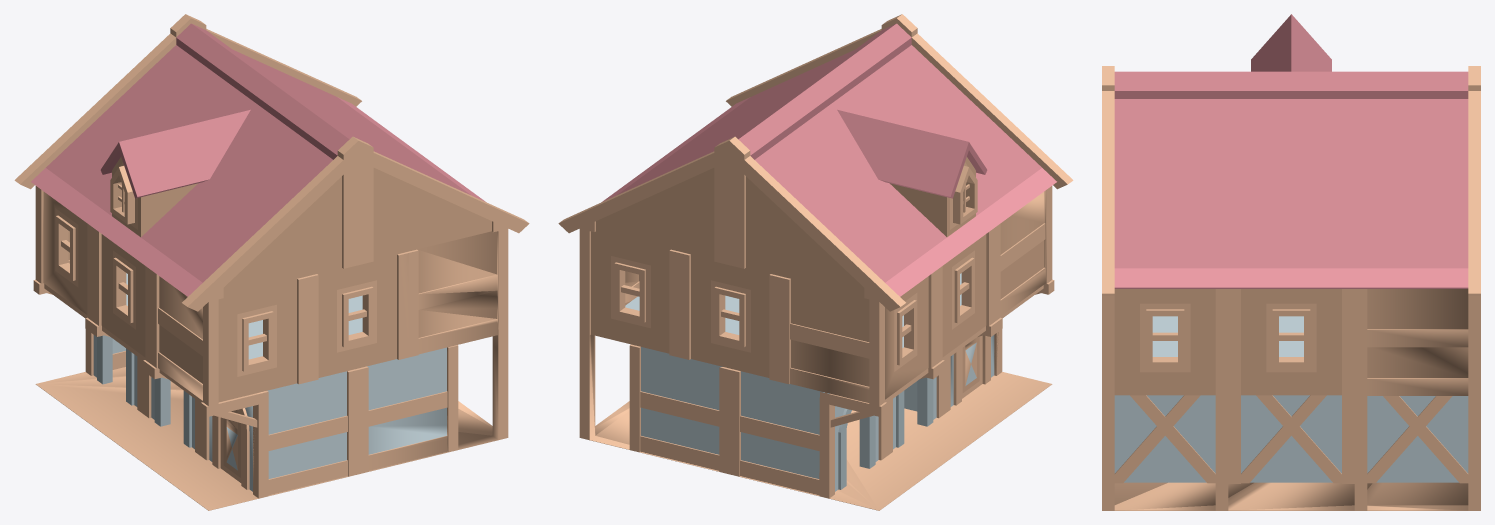
File: BasicHouse3.fbx
The picture shows the model from 3 angles, left to right: view 1: azimuth 30°, elevation 25°; view 2: azimuth 150°, elevation 25°; view 3: azimuth 270°, elevation 25°; orthographic projection. The views are drawn at different scales.
Visible parts, largest first — view 1: roofHighLeft.002, wallWoodWindowGlass.007, wallDoorwayRound.002, wallDoor.002; view 2: roofHighLeft.002, wallWoodWindowGlass.007, wallDoorwayRound.002, wallDoor.002; view 3: roofHighLeft.002, wallWoodWindowGlass.007, wallDoorwayRound.002.
Boxes of the visible parts, x1=… form: roofHighLeft.002: x1=14, y1=14, x2=529, y2=311; wallWoodWindowGlass.007: x1=35, y1=186, x2=508, y2=510; wallDoorwayRound.002: x1=85, y1=273, x2=458, y2=497; wallDoor.002: x1=33, y1=279, x2=268, y2=498; roofHighLeft.002: x1=558, y1=14, x2=1073, y2=311; wallWoodWindowGlass.007: x1=579, y1=186, x2=1052, y2=510; wallDoorwayRound.002: x1=625, y1=273, x2=1002, y2=498; wallDoor.002: x1=829, y1=279, x2=1054, y2=427; roofHighLeft.002: x1=1102, y1=14, x2=1480, y2=295; wallWoodWindowGlass.007: x1=1102, y1=289, x2=1480, y2=510; wallDoorwayRound.002: x1=1114, y1=316, x2=1468, y2=483.
Bounding box in the file's own units: 342 × 319 × 300.
